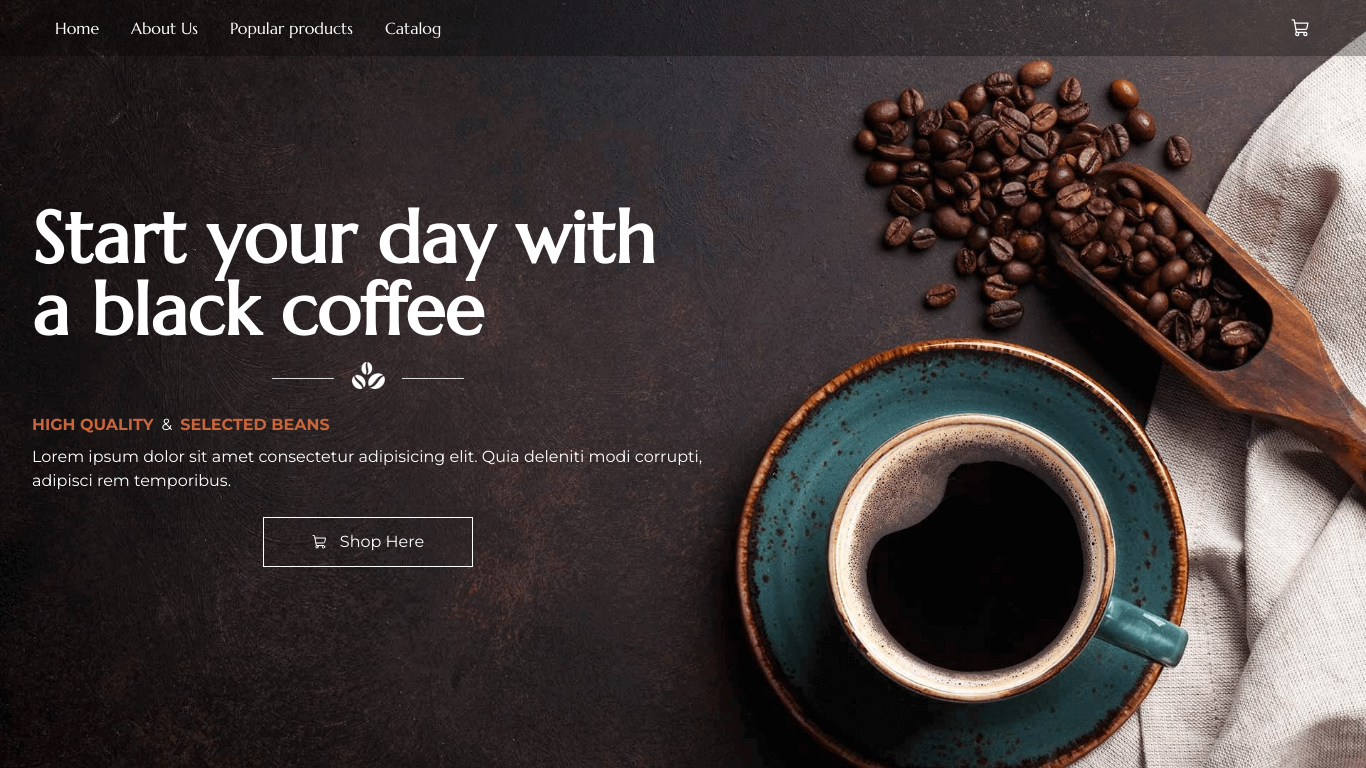
Scenario: Home page › home page content › about us section should have correct values
Click the link "About Us" at (165, 28), box 131,16 -> 198,40
(page scrolled)
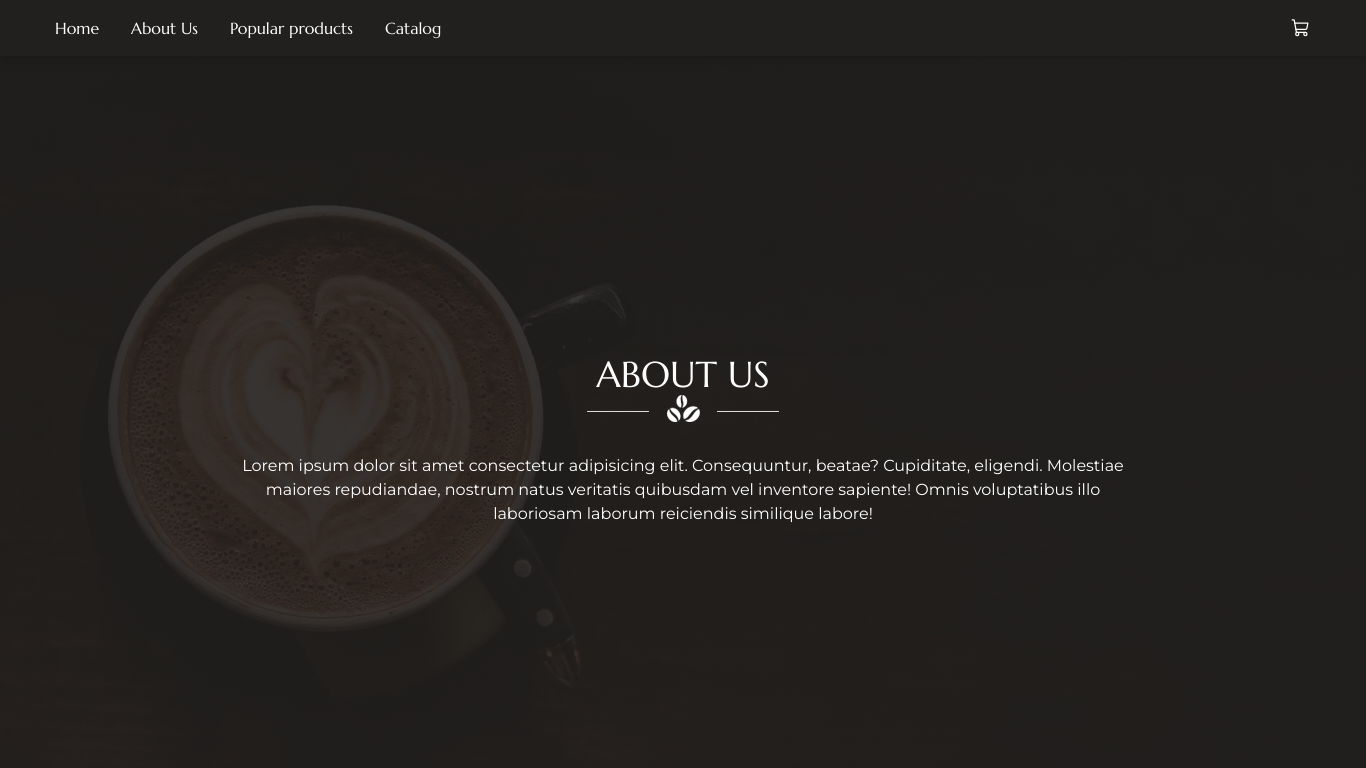
Expected: the heading "About Us" is shown, 596,354 -> 770,394
Expected: the heading with test id "about-heading" reads "About Us", 596,352 -> 769,397
